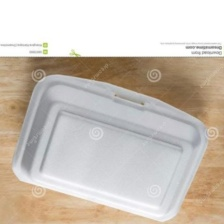foam_box: (6, 71, 214, 223)
